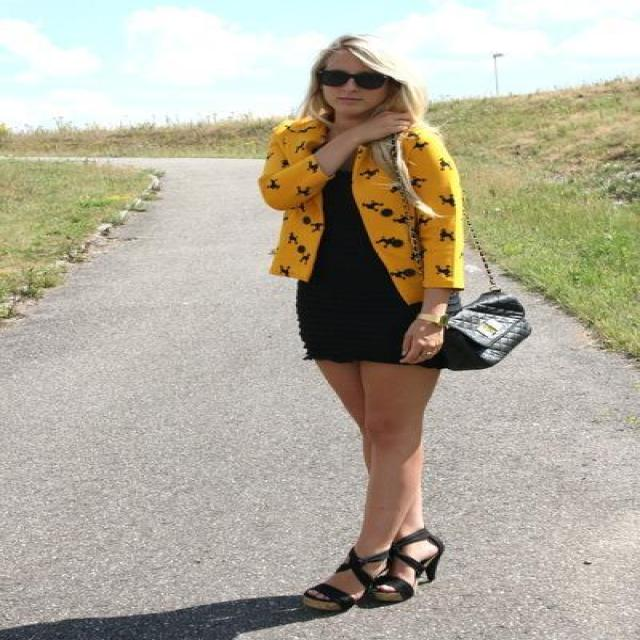bag: (416, 289, 530, 370)
dress: (296, 166, 421, 364)
jacket: (259, 115, 501, 303)
shoe: (306, 538, 440, 616)
sunglass: (312, 65, 402, 106)
